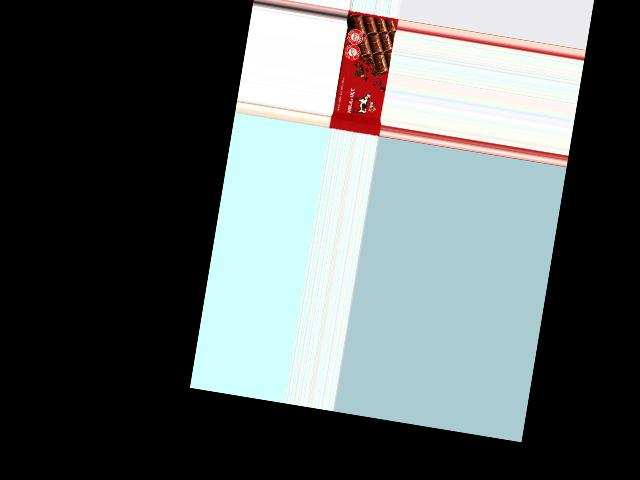chocolate: (328, 10, 397, 134)
